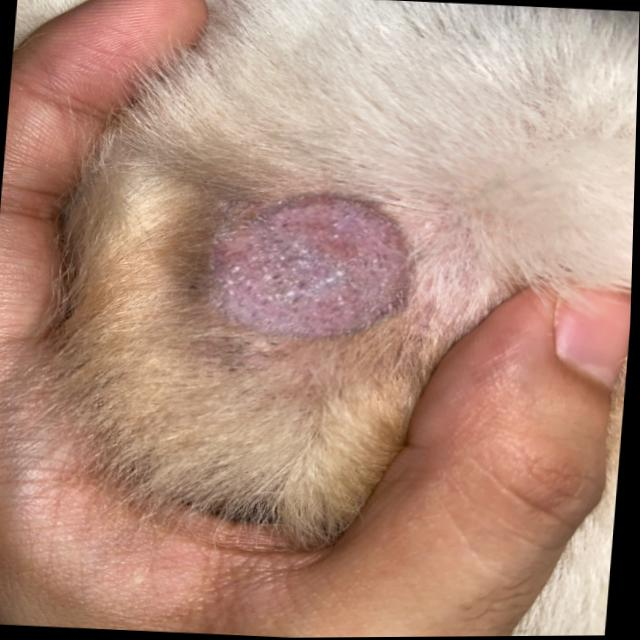ringworm: (171, 170, 457, 401)
